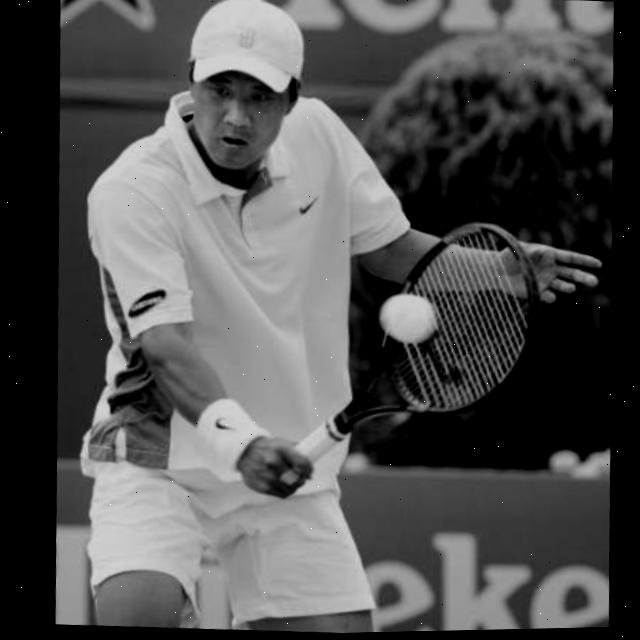face: (184, 50, 310, 180)
